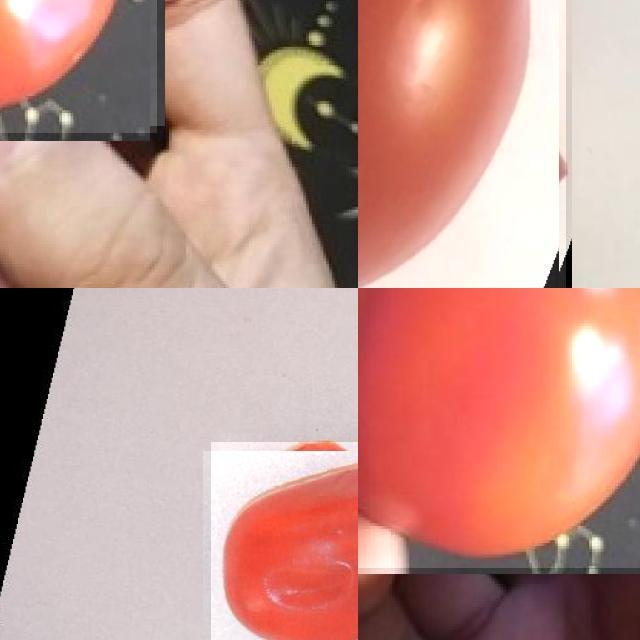Fresh Tomato: (358, 288, 640, 568), (358, 0, 566, 288), (0, 0, 157, 133)
Rotten Tomato: (211, 442, 358, 640)
